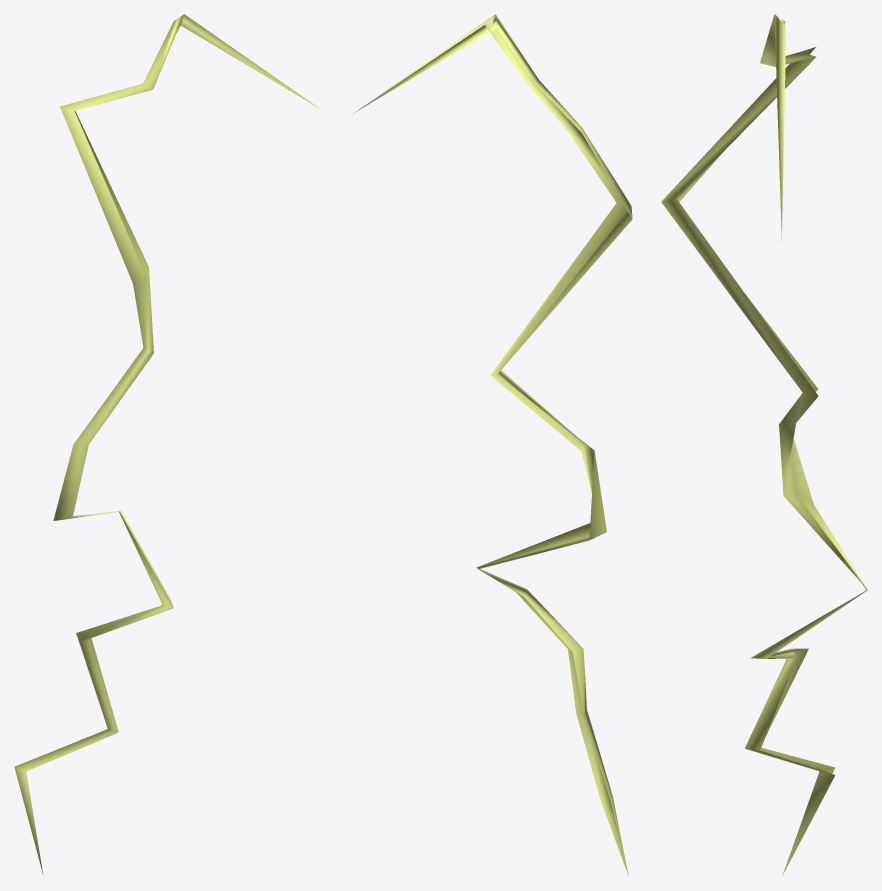
File: cgwell1_light_003.FBX
The picture shows the model from 3 angles, left to right: view 1: azimuth 30°, elevation 25°; view 2: azimuth 150°, elevation 25°; view 3: azimuth 270°, elevation 25°; orthographic projection. The views are drawn at different scales.
Parts seen in each view (by area): view 1: Plane005; view 2: Plane005; view 3: Plane005.
Part boxes in pixels (x1,y1,x2,y2): Plane005: (14,14,319,874); Plane005: (353,14,632,875); Plane005: (661,14,867,875).
Size of the model in its own units: 62.98 by 176 by 35.13.
